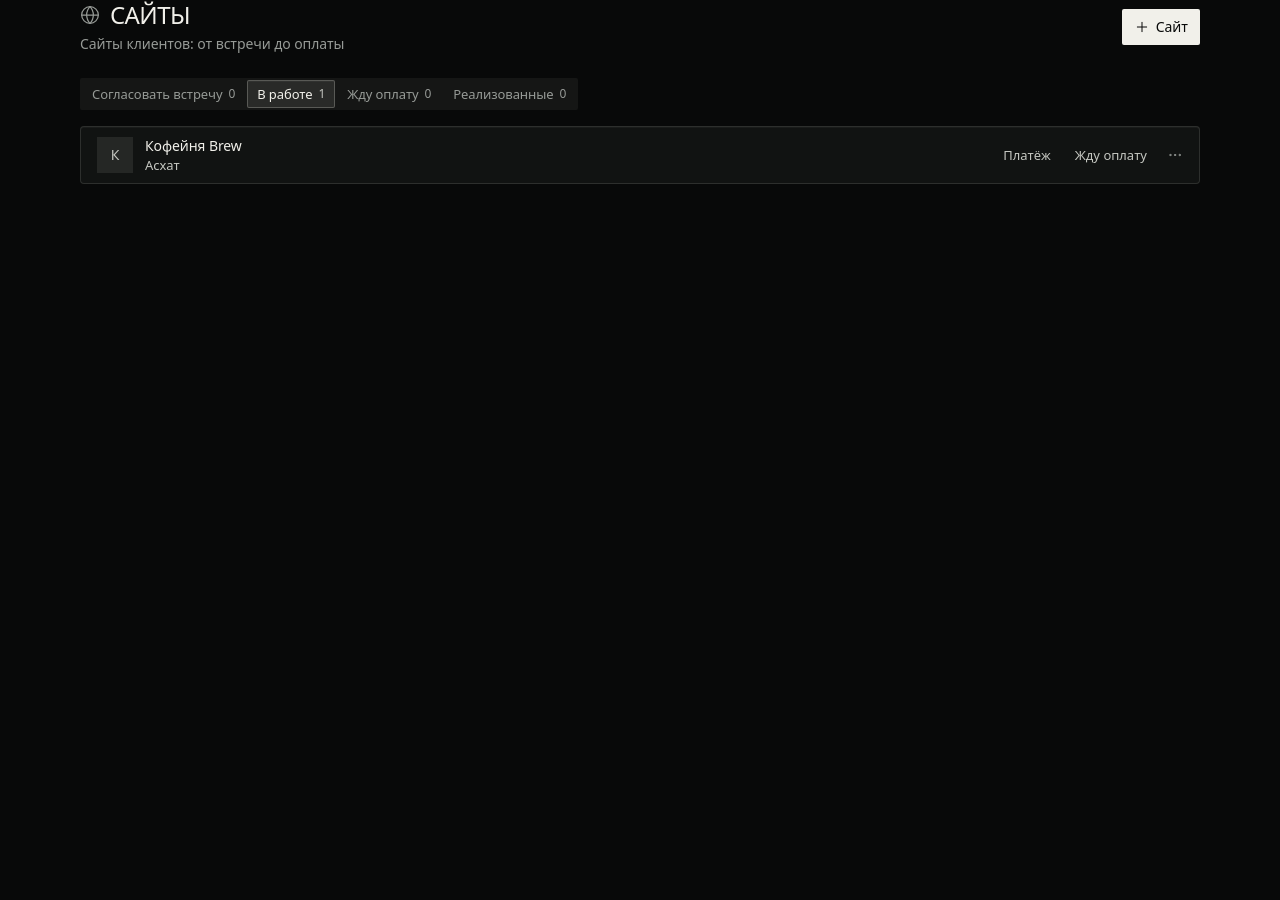
Test case: SitesPage › a click on a row opens the editor of that site
Click the button "К Кофейня Brew Асхат" at (115, 155), box x1=81 y1=127 x2=991 y2=183
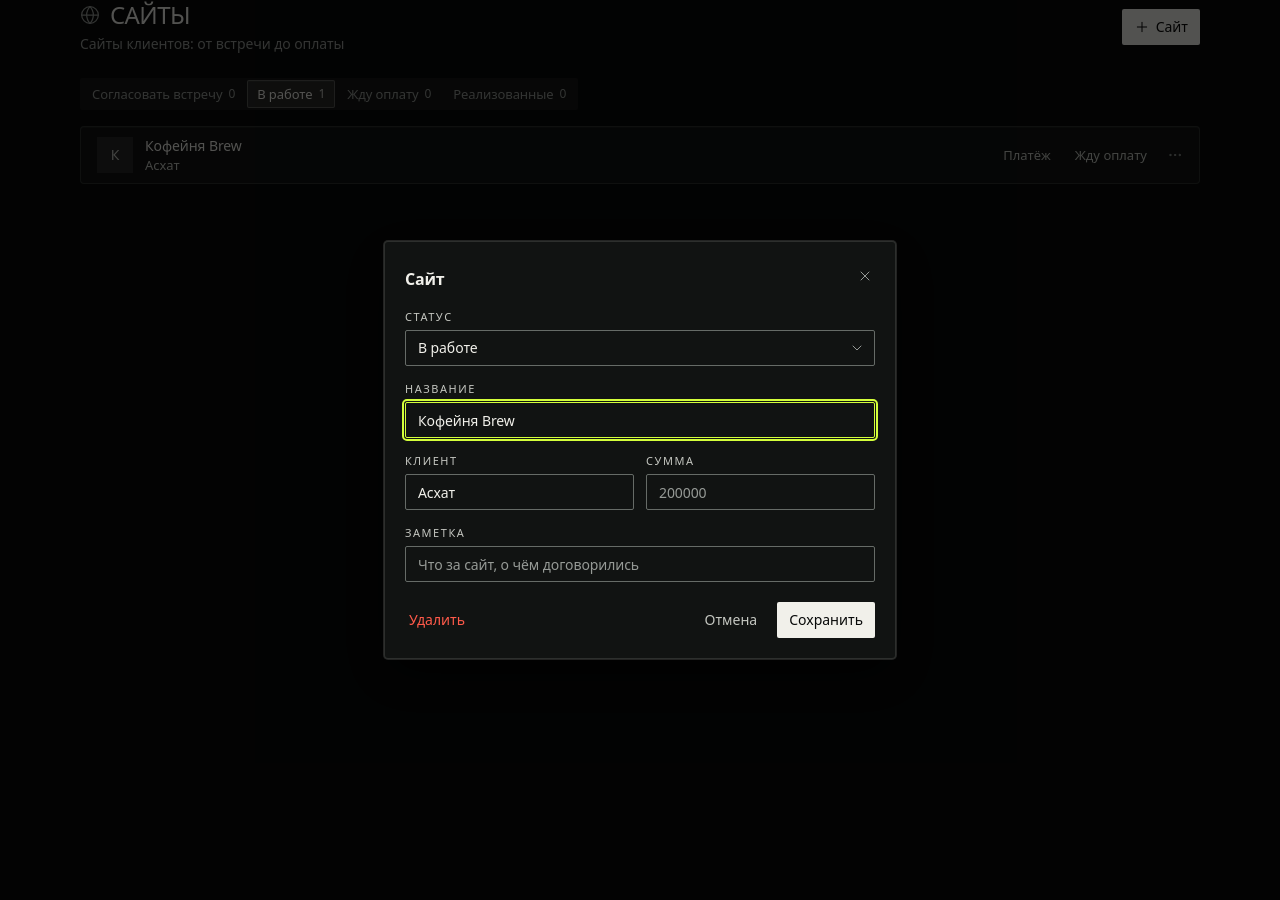
Result: the dialog "Сайт" is shown at x1=384 y1=241 x2=896 y2=659
Result: the field labelled "Название" holds "Кофейня Brew" at x1=405 y1=402 x2=875 y2=438
Result: the field labelled "Клиент" holds "Асхат" at x1=405 y1=474 x2=634 y2=510
